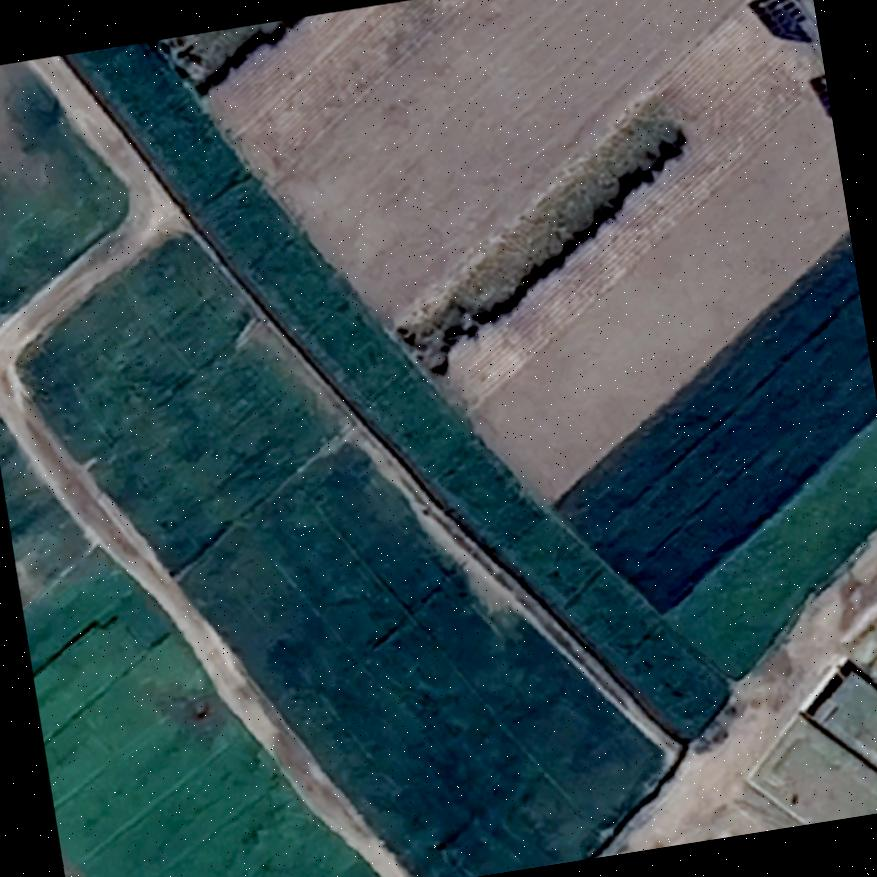Solarpanel: (739, 0, 819, 56), (802, 70, 832, 126)
